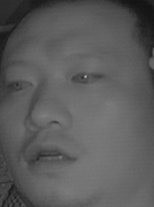eye: (70, 66, 101, 89), (3, 75, 34, 94)
mouth: (21, 137, 77, 175)
